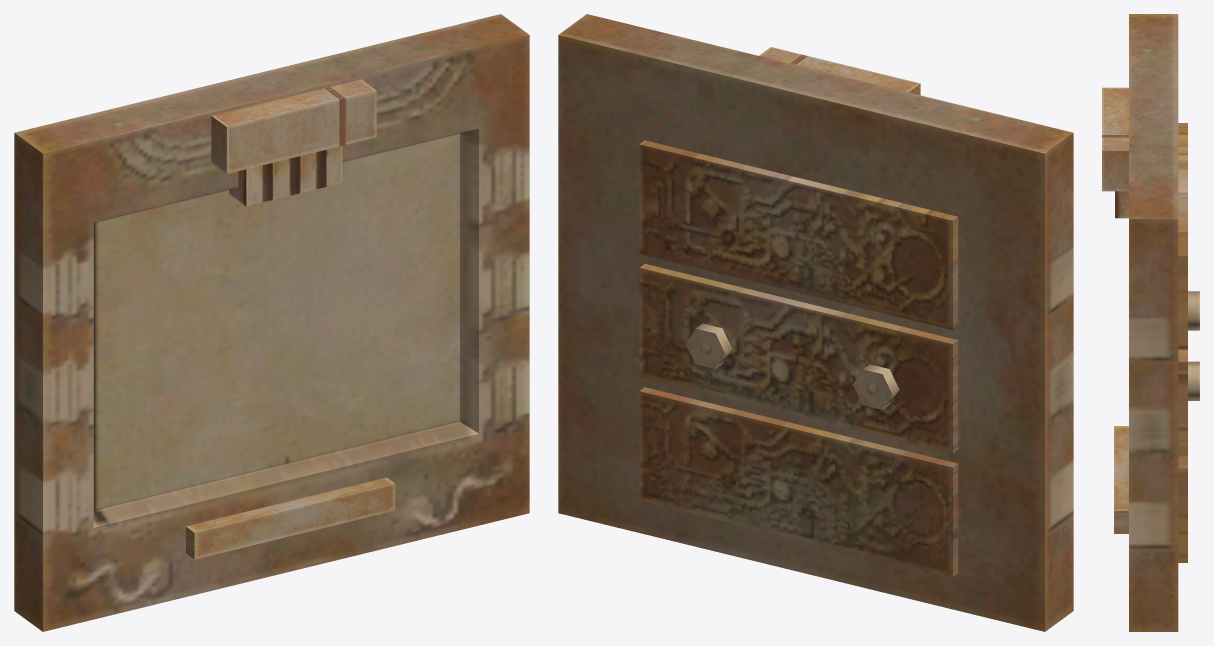
File: eqp_tool_datapad_inventory_l0.fbx
The picture shows the model from 3 angles, left to right: view 1: azimuth 30°, elevation 25°; view 2: azimuth 150°, elevation 25°; view 3: azimuth 270°, elevation 25°; orthographic projection. The views are drawn at different scales.
Parts seen in each view (by area): view 1: mesh_node; view 2: mesh_node; view 3: mesh_node.
Part boxes in pixels (left/top/right/bottom): mesh_node: left=14, top=14, right=529, bottom=631; mesh_node: left=558, top=14, right=1073, bottom=631; mesh_node: left=1102, top=14, right=1199, bottom=631.
Size of the model in its own units: 0.2054 by 0.1928 by 0.0414.
Materials: 1 (1 with a texture image).
